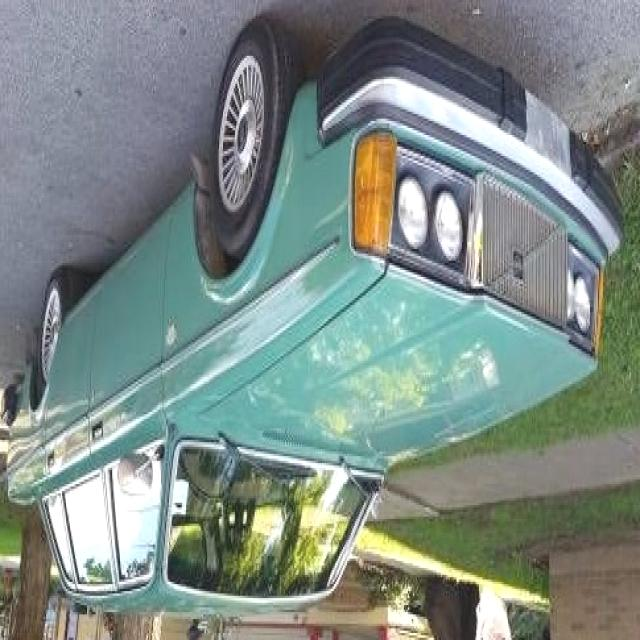green: (1, 16, 624, 617)
